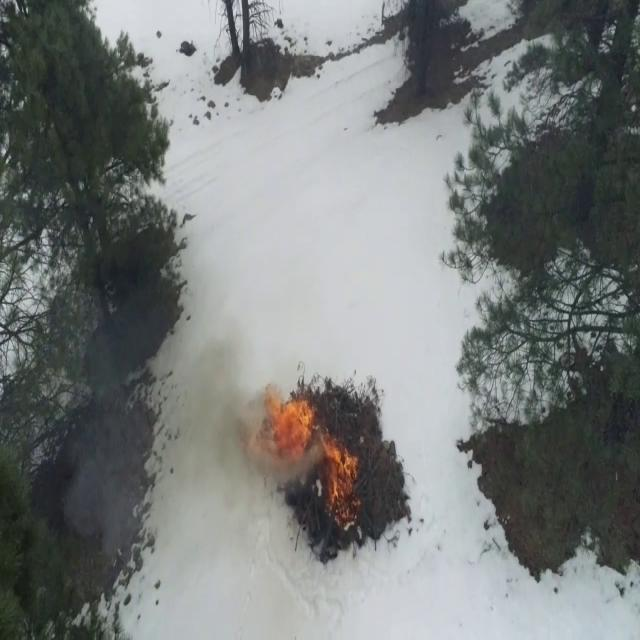fire: (268, 389, 313, 464), (326, 442, 360, 526)
